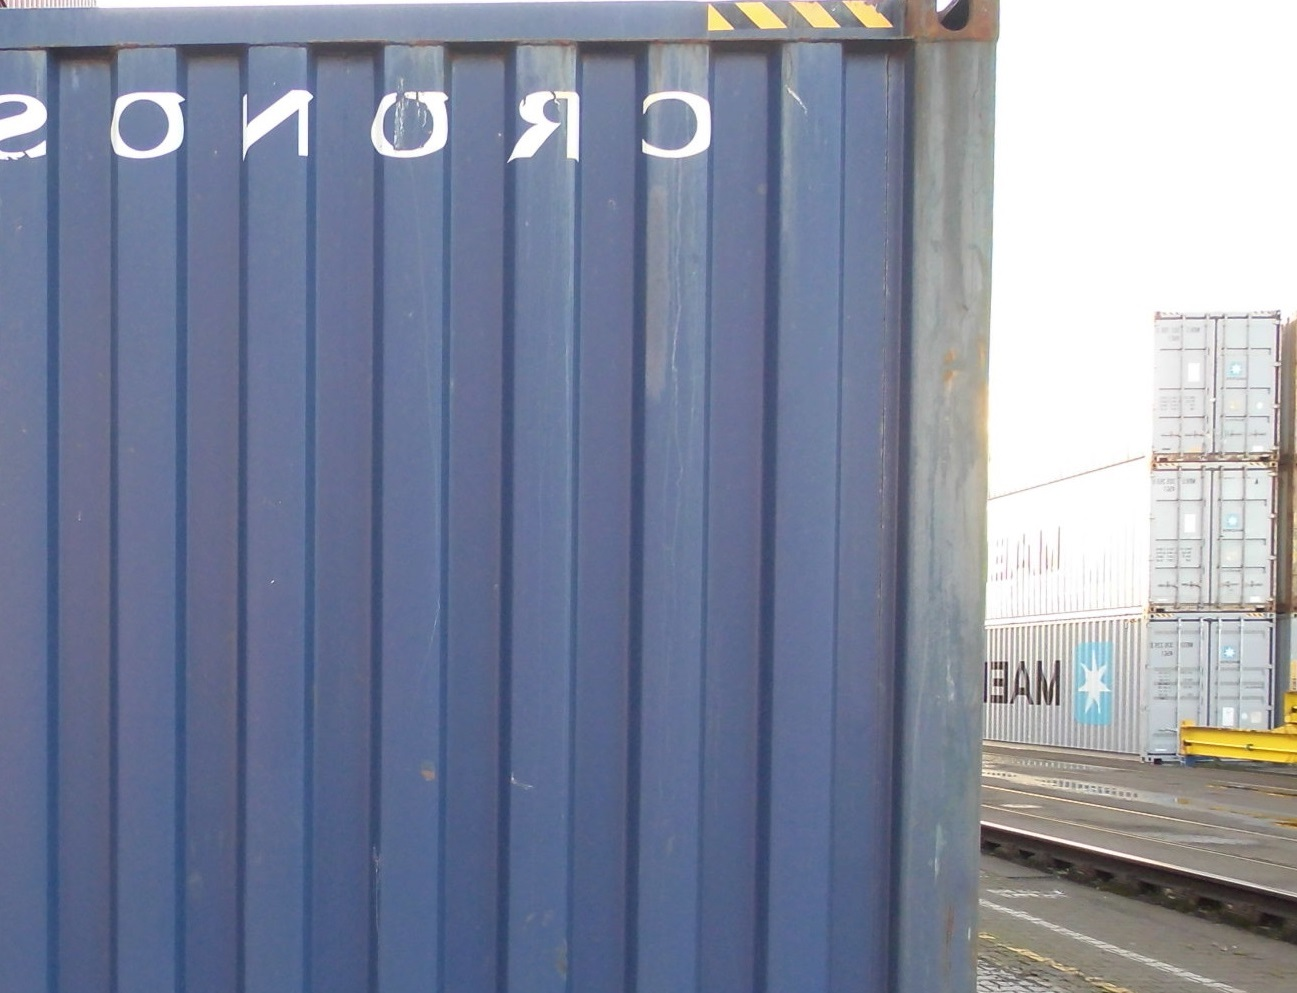container_no_door: (3, 1, 1001, 992)
